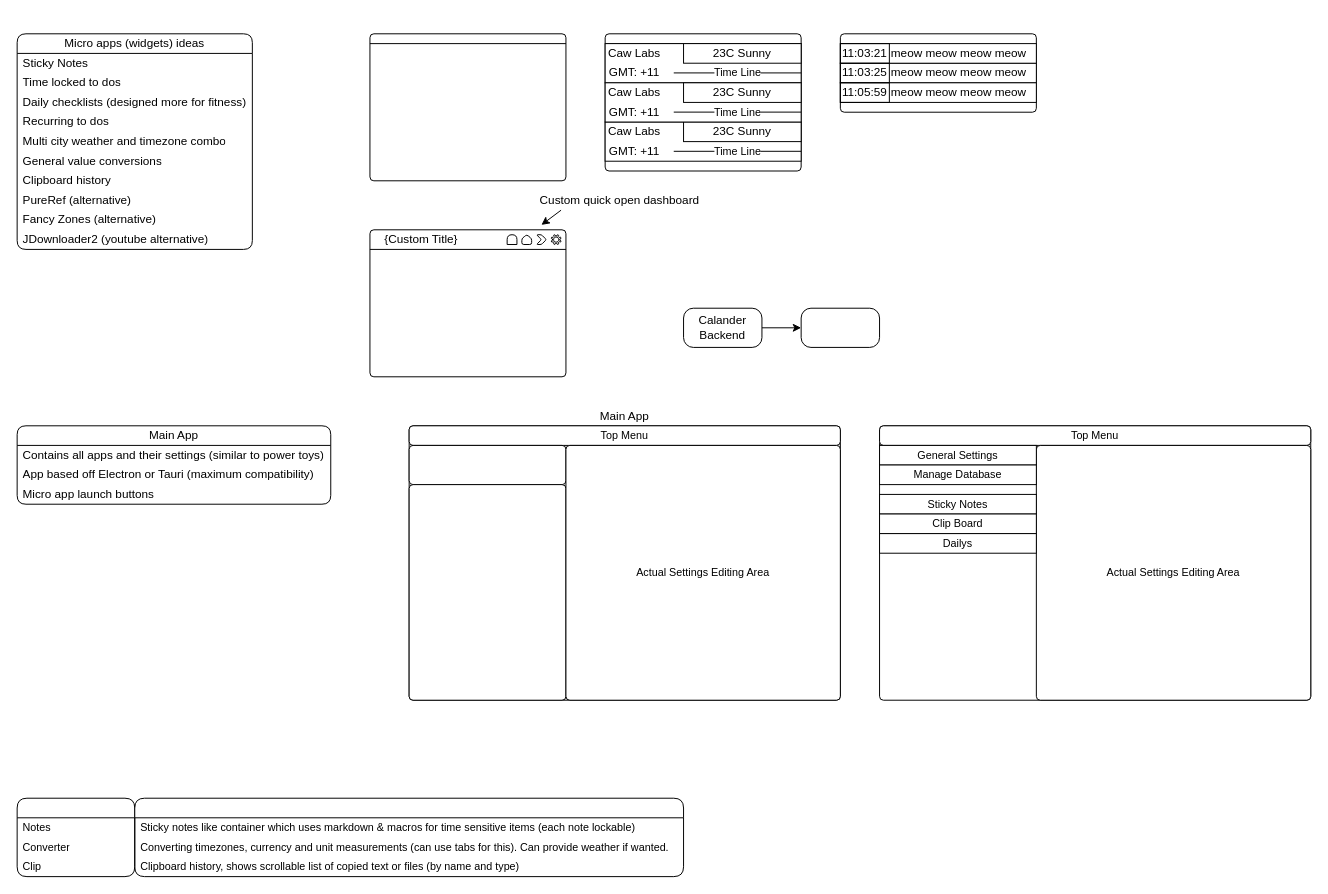
This 1328x894 diagram has some shape labels left out. The shapes that lost their labels are listed below. From the top down, each one's box as (x1, y1, x2, y2) in pixels, then its label:
(839, 33, 1036, 112): Micro App: Clipboard History
(369, 33, 566, 181): Micro App
(604, 33, 801, 171): Micro App: Weather Timezones
(369, 229, 566, 377): Micro App [Top bar view]
(800, 307, 880, 347): Sticky Notes like Frontend
(408, 444, 566, 485): Main App Settings Selection
(879, 425, 1311, 700): Main App (Sample)
(408, 484, 566, 700): Micro App Selection / Launch
(16, 797, 135, 877): Micro app (widget)
(134, 797, 684, 877): Description
